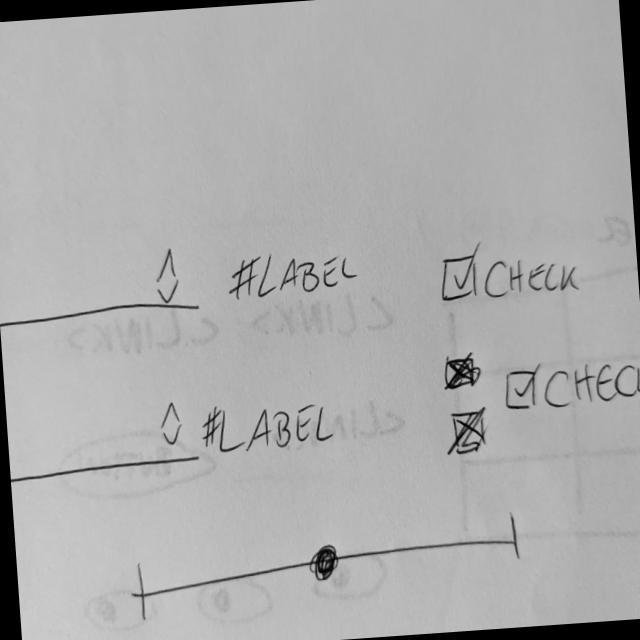checkbox: (436, 235, 582, 311), (502, 354, 640, 416)
label: (201, 392, 338, 461), (224, 247, 362, 308)
number-input: (7, 394, 205, 490), (1, 242, 202, 334)
slider: (128, 508, 527, 625)
